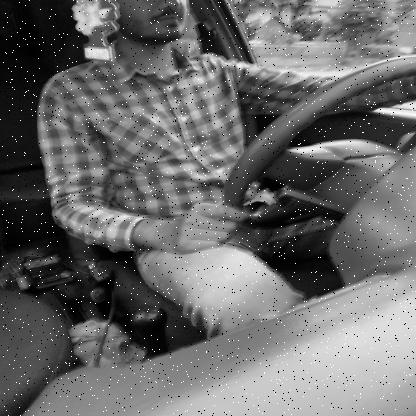no_seatbelt: (96, 0, 247, 192)
